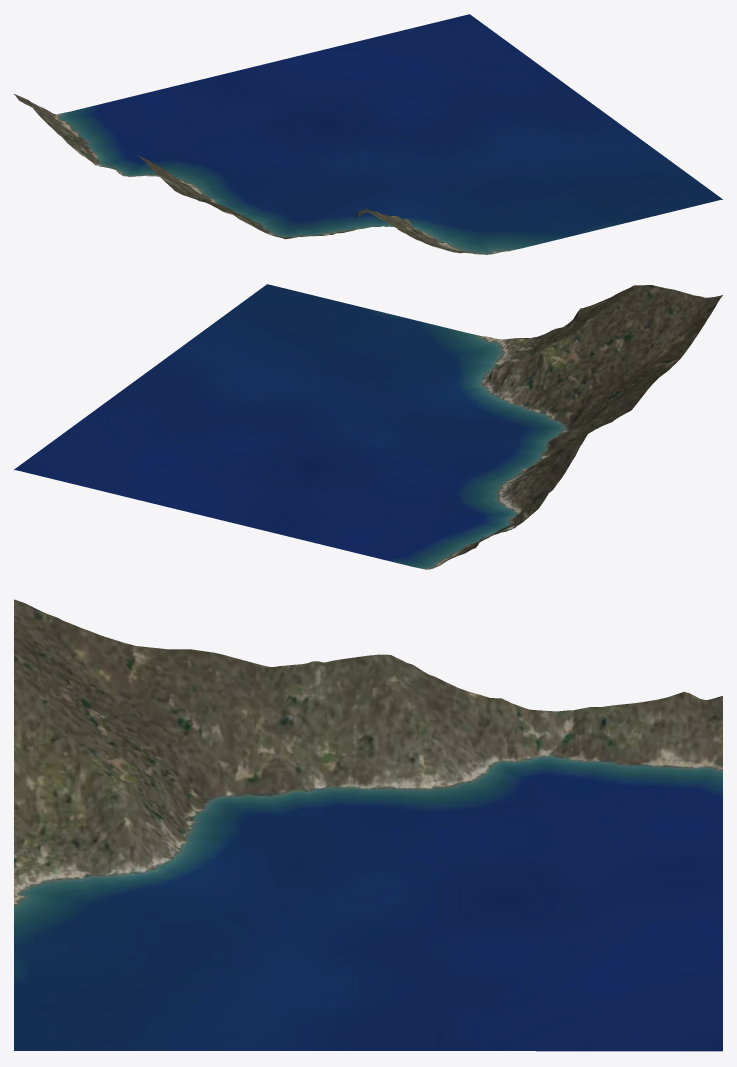
3 views of the same model, one above another, from view 1: azimuth 30°, elevation 25°; view 2: azimuth 150°, elevation 25°; view 3: azimuth 270°, elevation 25° (orthographic). The views are drawn at different scales.
Size of the model in its own units: 500 by 106 by 481.
Materials: 1 (1 with a texture image).
